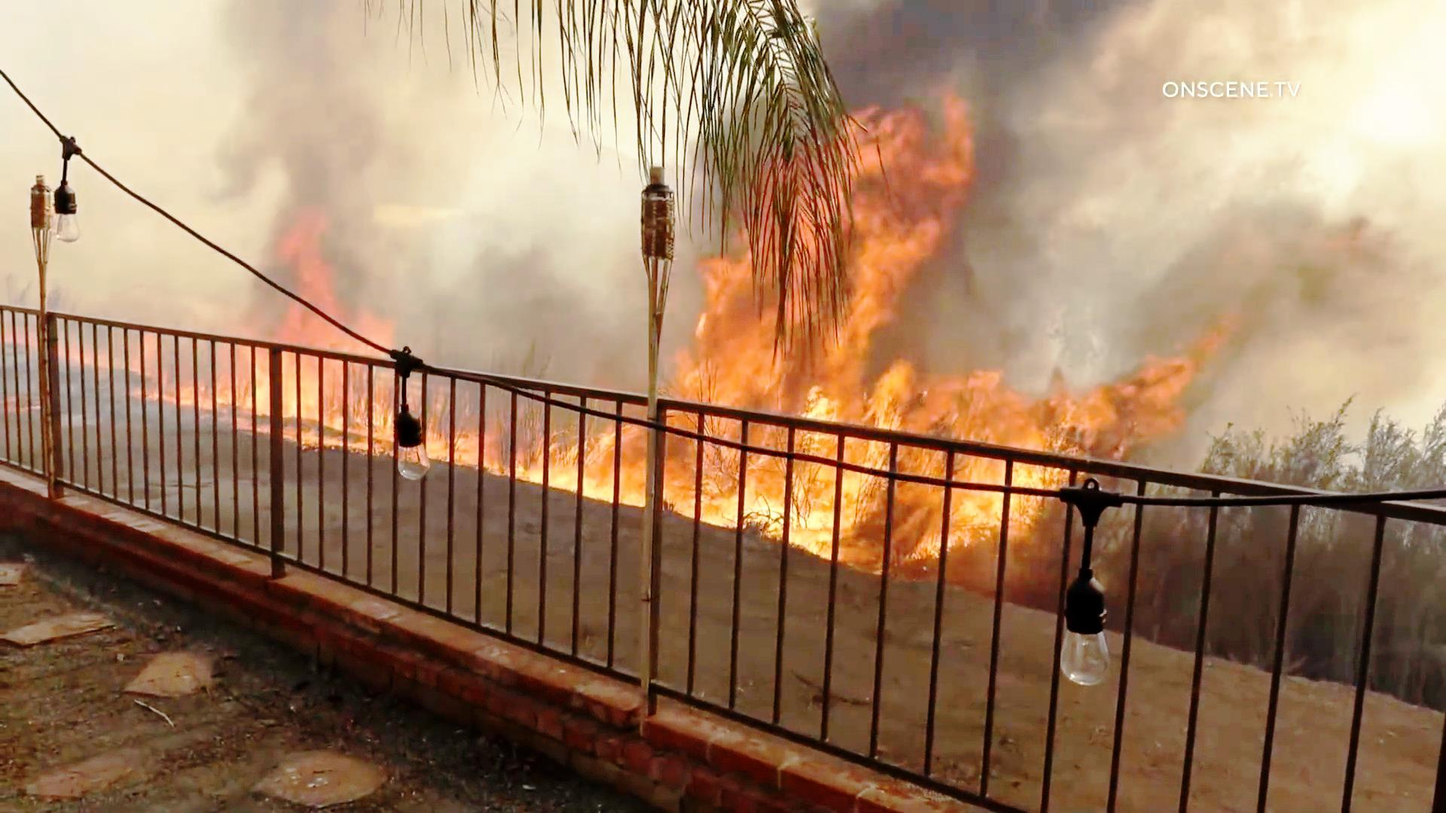fire: (667, 98, 981, 505), (222, 217, 326, 404)
smoke: (991, 108, 1443, 320), (213, 2, 395, 207), (819, 0, 1165, 98), (993, 328, 1226, 457)
